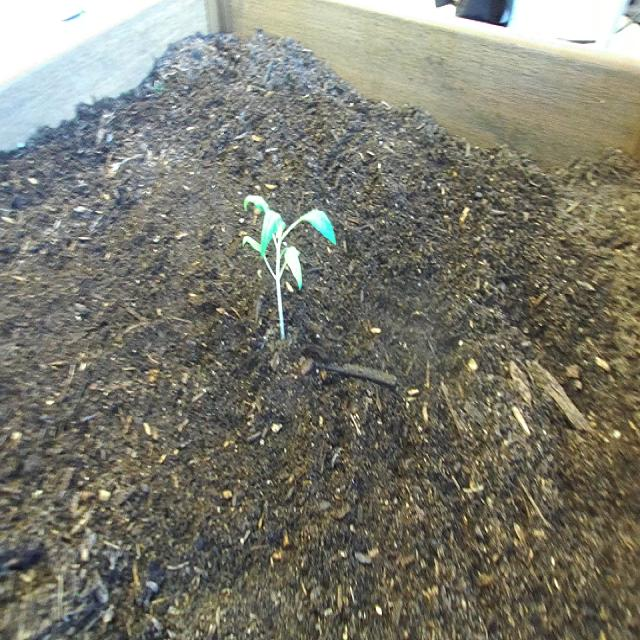Healthy: (238, 185, 340, 347)
